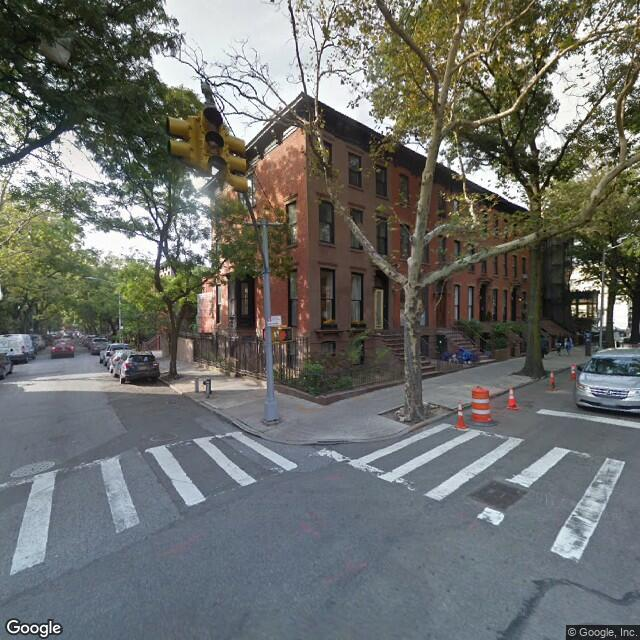litter: (439, 349, 479, 370)
